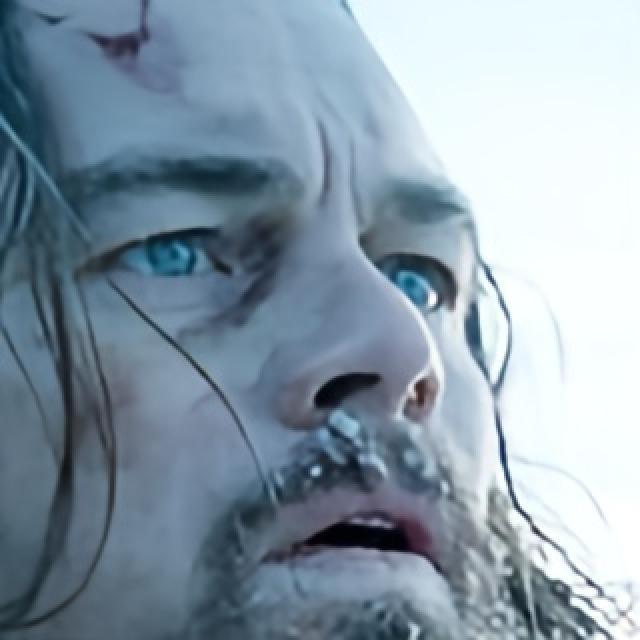fear: (52, 204, 482, 640)
